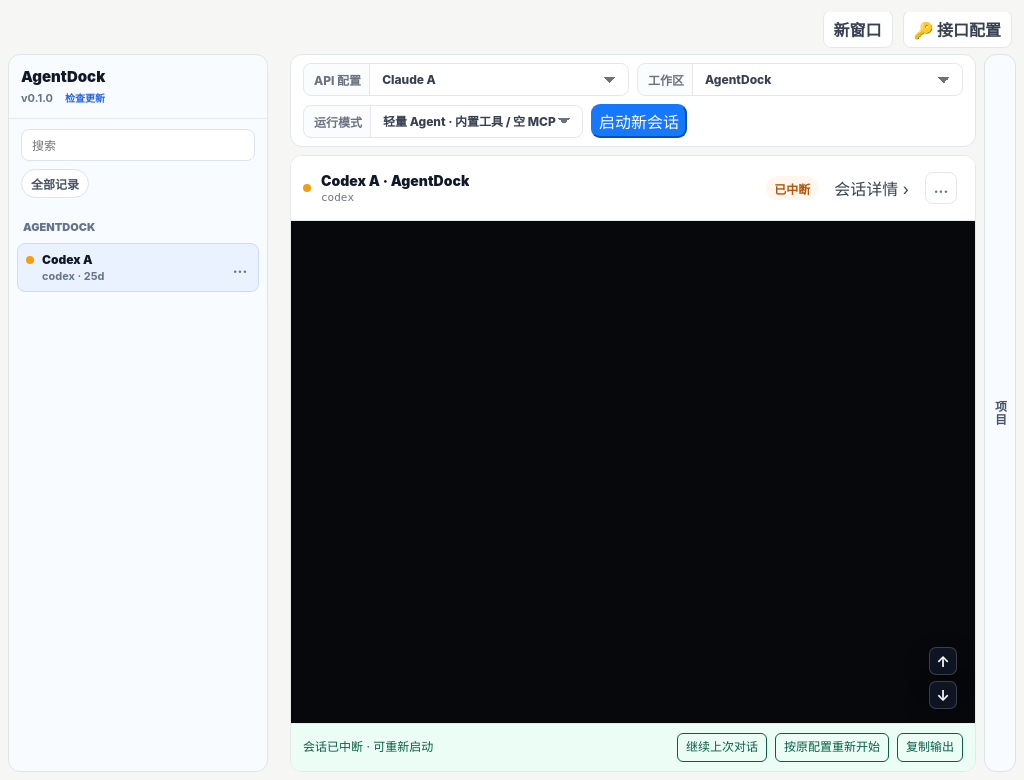
Test: AgentDock session launch flow › clears the restarting status when restart fails
Expected: the text "会话已中断 · 可重新启动" is shown, [303,739,433,756]
Click the button "继续上次对话" at (722, 748), box [677,733,767,762]
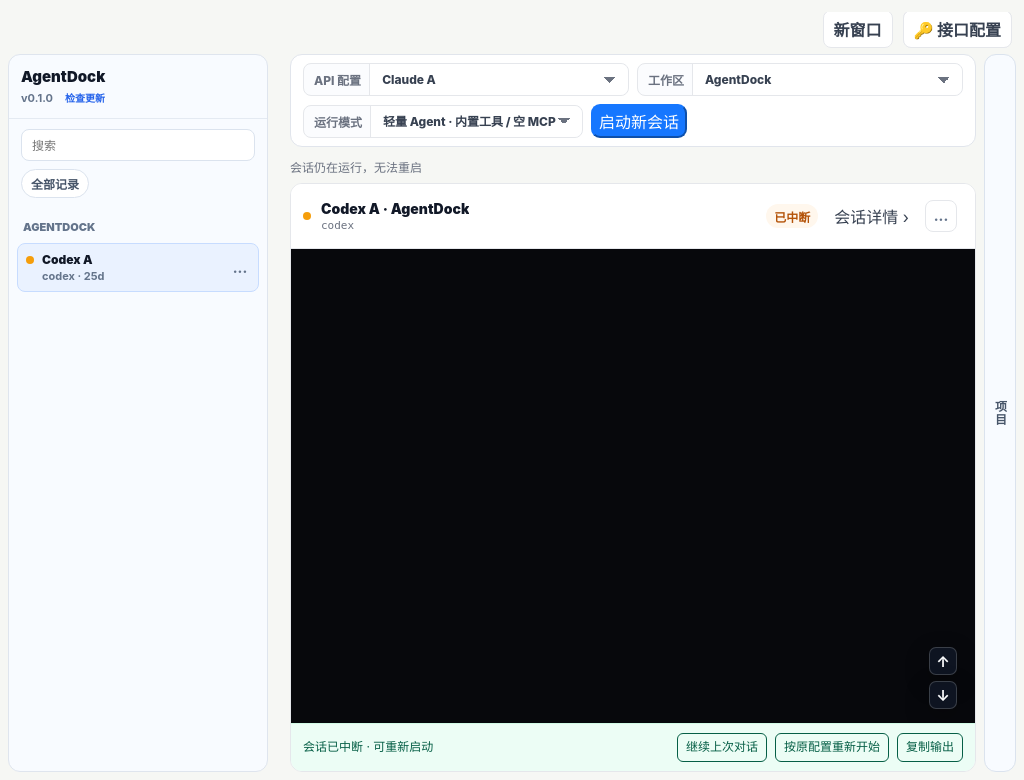
Now the message "会话仍在运行，无法重启" is shown, box [290,160,422,175]
